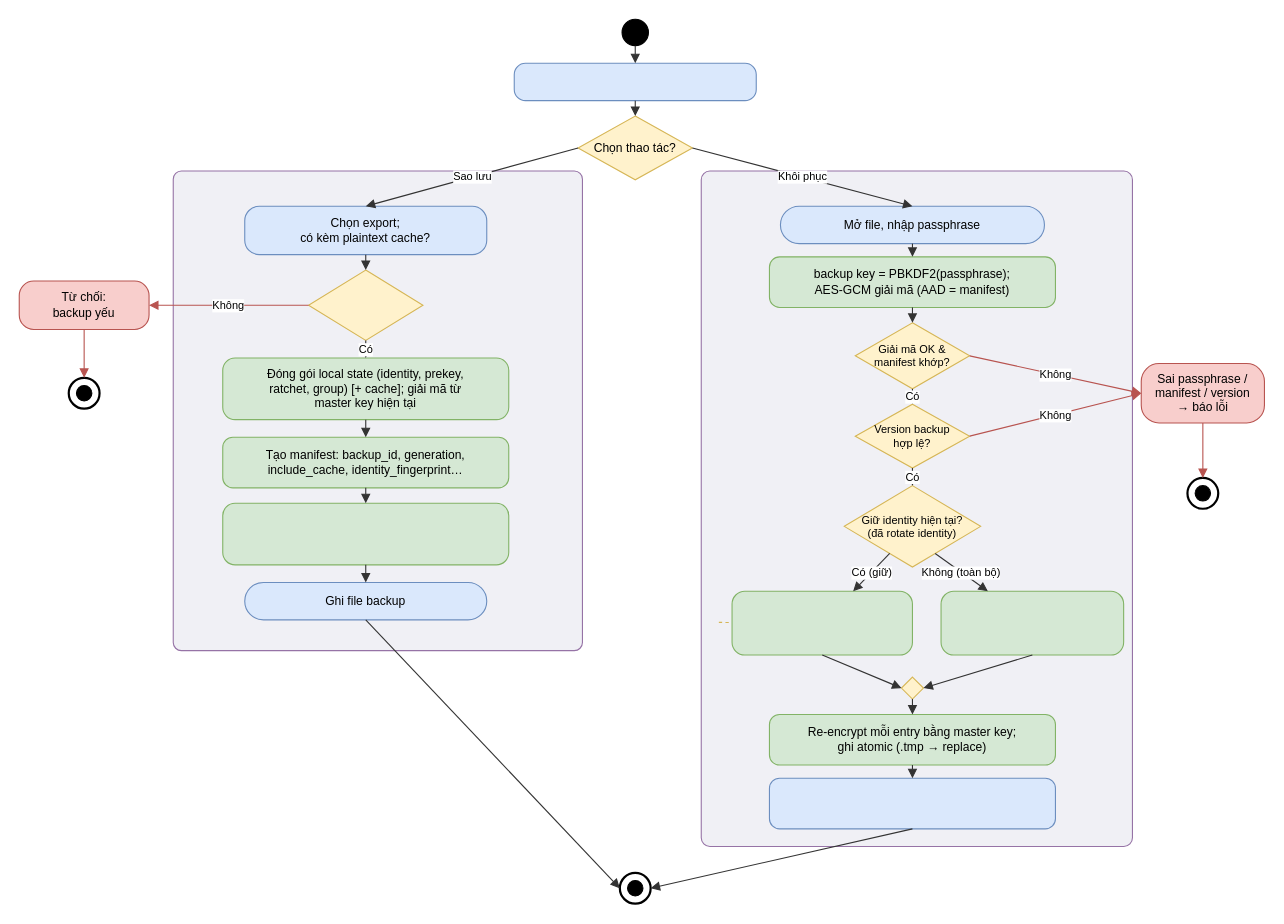
Image size: 1284x924. Some labels were removed from this diagram. Here are the shapes that lost their labels. From the top down, the box of each, then its label:
(513, 62, 756, 101): Mở mục Sao lưu & khôi phục E2EE
(307, 269, 423, 340): Passphrase đủ mạnh? (≥ 12 ký tự)
(222, 502, 509, 565): backup key = PBKDF2(passphrase, 600k); AES-GCM(plain, nonce, AAD = manifest)
(731, 590, 912, 655): Chỉ merge cache theo message id; bỏ qua file identity
(940, 590, 1124, 655): Khôi phục toàn bộ; clear ratchet / sender / verified / audit state
(768, 777, 1055, 829): Công bố lại bundle nếu khôi phục được identity secret
